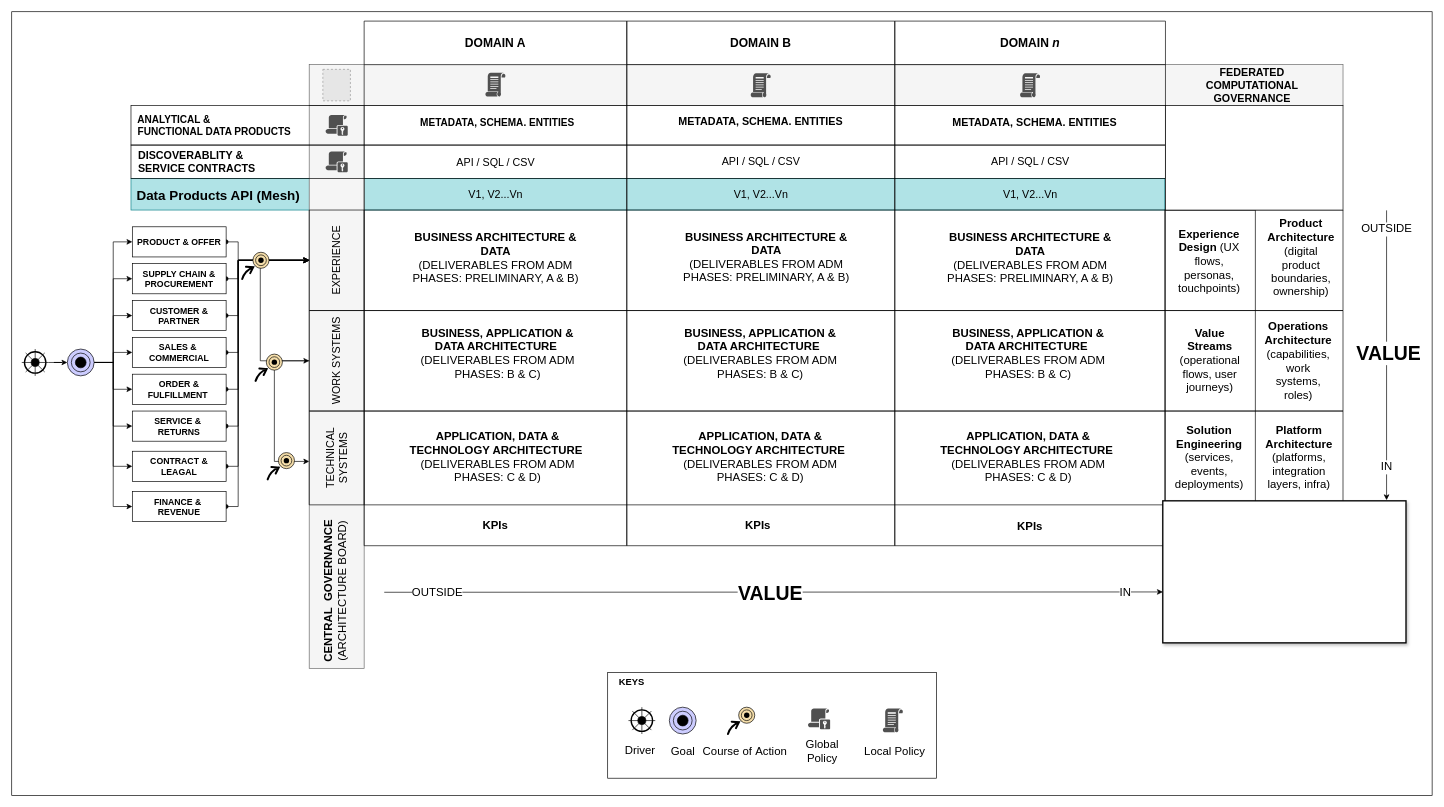
The diagram is 1444 pixels wide and 807 high, and some of its shapes have lost their labels. Grey dashed boxes stand in for pictures. The shapes that lost their labels are listed below. From the top down, each one's centre as x and y in pixels, then its label:
point 1254,157: CATALOGS, MATRICES, DIAGRAMS
point 1284,572: ENTERPRISE CAPABILITY
